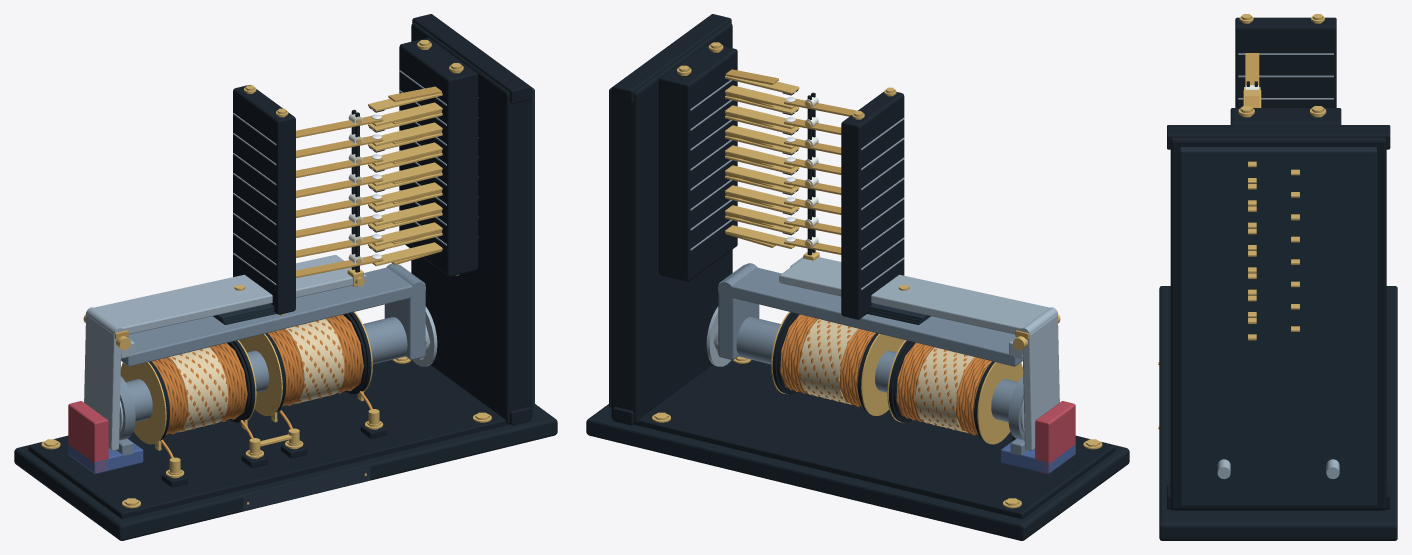
Rendered from JPXC-1000-dropped.glb.
3 views of the same model, side by side, from view 1: azimuth 30°, elevation 25°; view 2: azimuth 150°, elevation 25°; view 3: azimuth 270°, elevation 25° (orthographic). The views are drawn at different scales.
Parts seen in each view (by area): view 1: base (×6), contactBlock (×2), coil (×6), armature (×2), yoke (×2), back (×8), permanent (×2), core, pole; view 2: base (×5), contactBlock (×2), coil (×6), armature (×2), yoke (×2), permanent (×2), core, pole, back; view 3: base (×4), contactBlock (×2), common.
Part boxes in pixels (x1,y1,x2,y2): base (×6): (14,14,557,540); contactBlock (×2): (233,38,477,314); coil (×6): (120,314,363,444); armature (×2): (84,255,364,450); yoke (×2): (121,264,425,366); back (×8): (372,102,442,266); permanent (×2): (68,401,143,473); core: (125,317,407,422); pole: (119,376,135,440); base (×5): (586,14,1129,540); contactBlock (×2): (659,42,904,319); coil (×6): (780,314,1023,444); armature (×2): (779,257,1059,450); yoke (×2): (718,264,1022,366); permanent (×2): (1000,401,1075,473); core: (736,317,1018,422); pole: (1008,376,1024,440); back: (725,225,795,248); base (×4): (1159,125,1397,540); contactBlock (×2): (1230,17,1341,124); common: (1245,53,1259,86).
Bounding box in the file's own units: 6.05 × 4.73 × 2.55.
